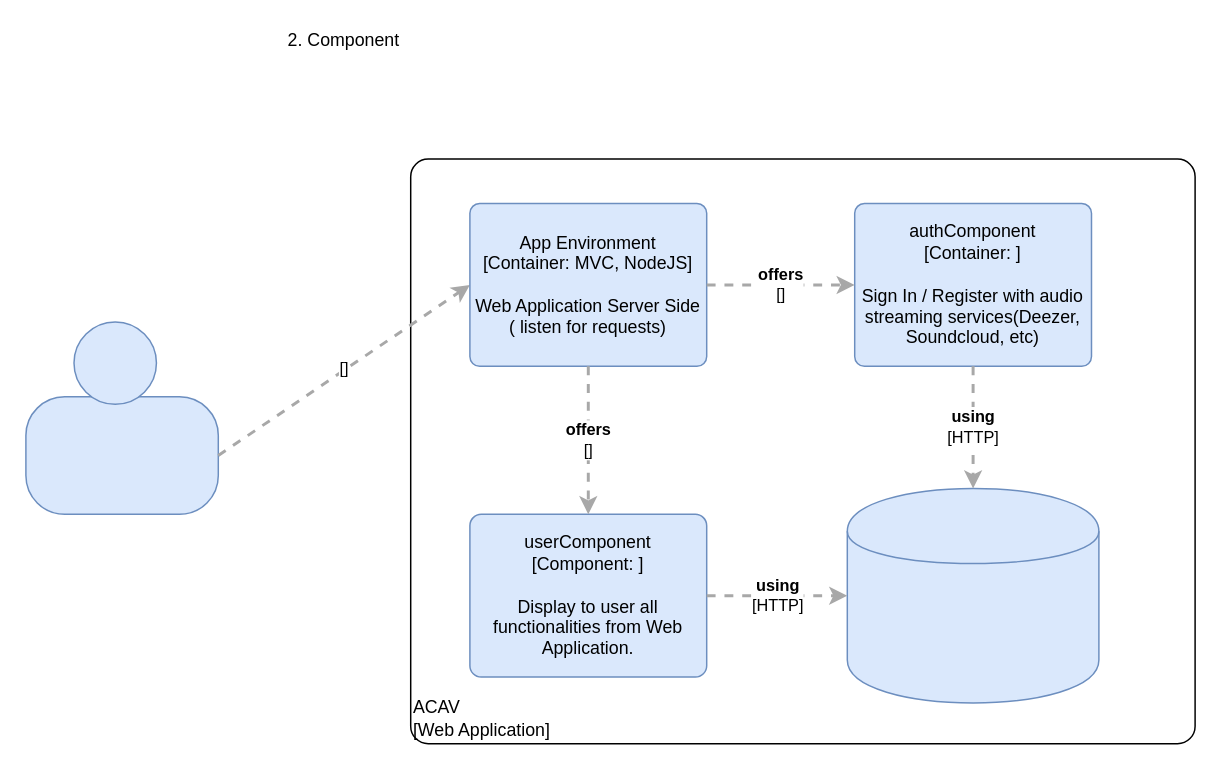
Some shapes in this 1221 by 770 pixel diagram are drawn without their labels. The shapes that lost their labels are listed below. From the top down, each one's centre as x and y in pixels, then its label:
At (x=121, y=454): "Client Side / User [Person] A client using ACAV".
At (x=972, y=595): "Database [Container: MongoDB] Store user login informations, preferences, etc.".
